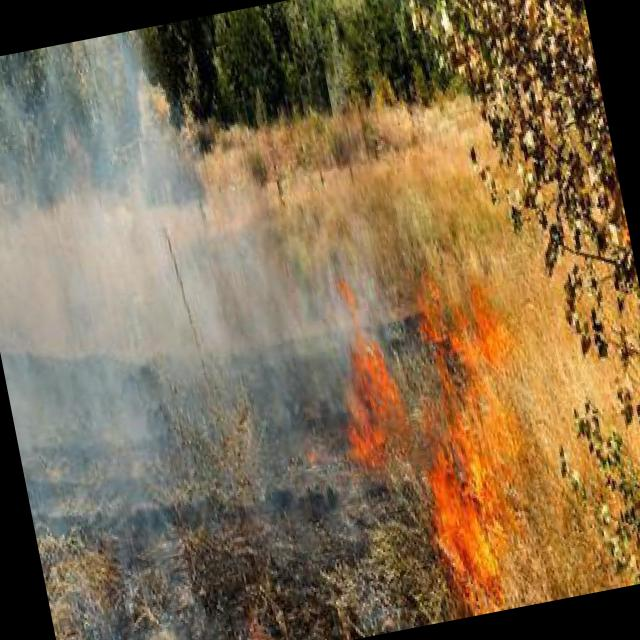Fire: (372, 247, 558, 618), (313, 273, 416, 481)
Smoke: (0, 10, 331, 544)
